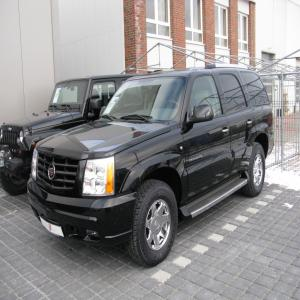Vehicle-registration-plate: (40, 218, 65, 239)
